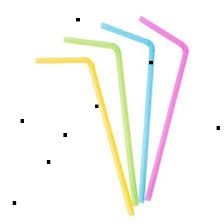drinking_straw: (30, 51, 137, 220), (59, 31, 141, 207), (96, 19, 158, 205), (133, 11, 191, 204)
